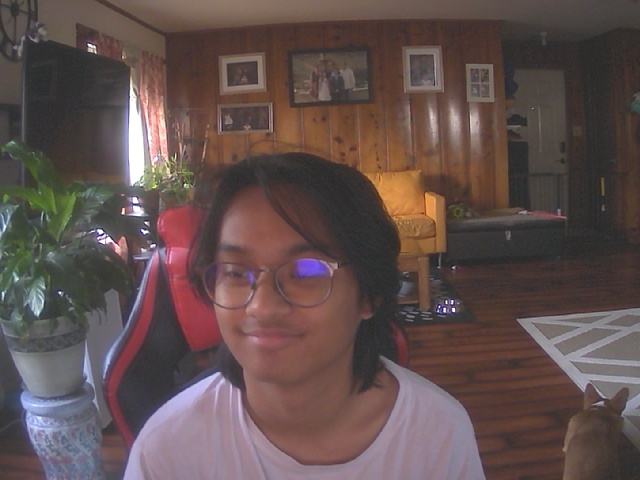happy: (194, 157, 387, 383)
